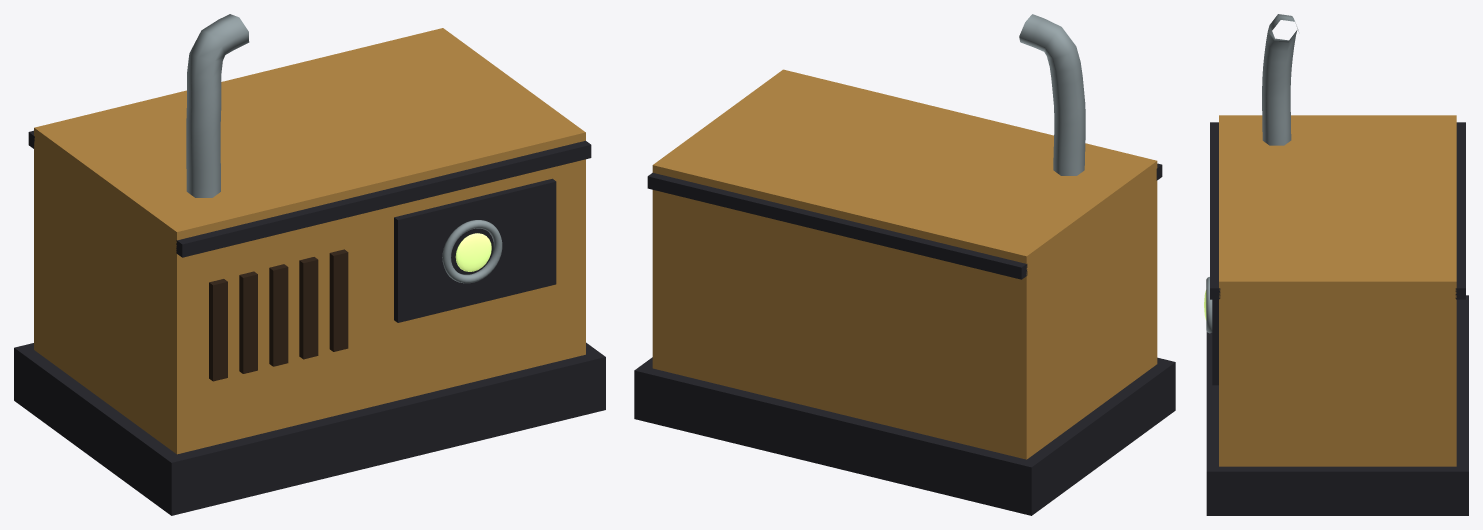
Rendered from mia-generator.glb.
3 renders of one model, left to right at view 1: azimuth 30°, elevation 25°; view 2: azimuth 150°, elevation 25°; view 3: azimuth 270°, elevation 25°, orthographic. The views are drawn at different scales.
Parts seen in each view (by area): view 1: Body_hay-mid, Body_iron, Body_grain, Body_steel, Body_gas-glass; view 2: Body_hay-mid, Body_iron, Body_steel; view 3: Body_hay-mid, Body_iron, Body_steel.
Part boxes in pixels (box(x1,y1,x2,y2)): Body_hay-mid: box(34, 28, 585, 454); Body_iron: box(14, 130, 605, 515); Body_grain: box(209, 249, 348, 381); Body_steel: box(186, 14, 502, 283); Body_gas-glass: box(455, 233, 491, 271); Body_hay-mid: box(652, 69, 1157, 459); Body_iron: box(634, 163, 1175, 515); Body_steel: box(1019, 14, 1085, 175); Body_hay-mid: box(1219, 115, 1456, 466); Body_iron: box(1206, 122, 1468, 515); Body_steel: box(1206, 14, 1298, 333).
Bounding box in the file's own units: 1.37 × 1.32 × 0.869.
